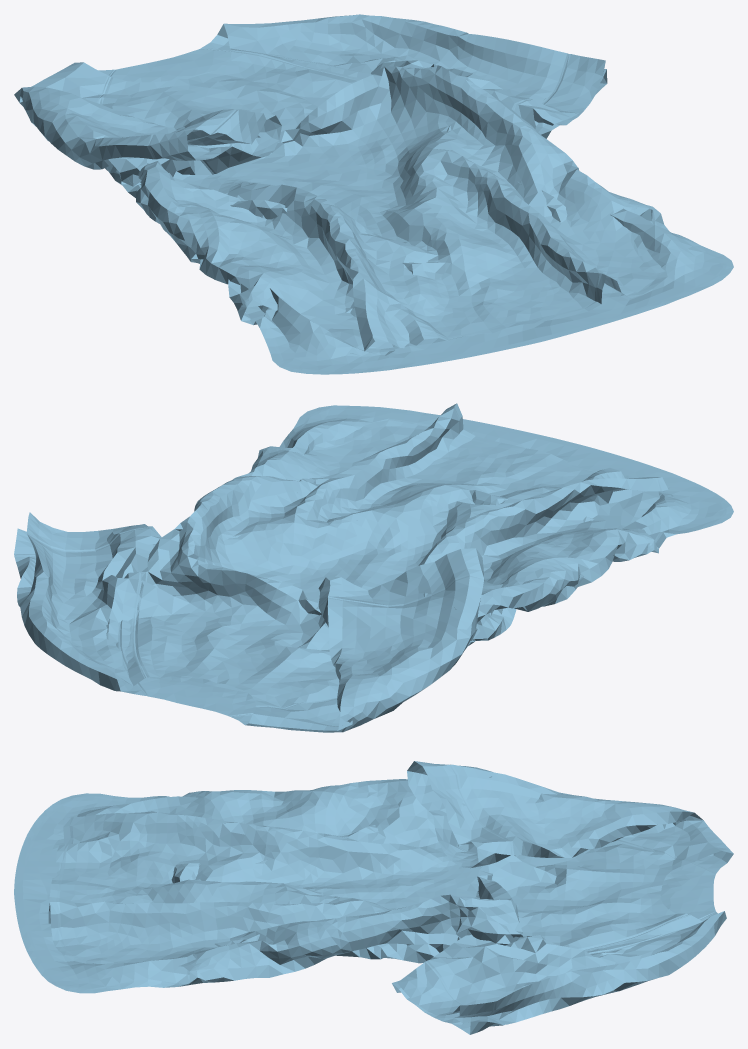
File: frame_01.glb
The picture shows the model from 3 angles, top to bottom: view 1: azimuth 30°, elevation 25°; view 2: azimuth 150°, elevation 25°; view 3: azimuth 270°, elevation 25°; orthographic projection. The views are drawn at different scales.
Visible parts, largest first — view 1: frame_01.obj; view 2: frame_01.obj; view 3: frame_01.obj.
Boxes of the visible parts, bbox=[...] form: frame_01.obj: bbox=[14, 14, 733, 374]; frame_01.obj: bbox=[14, 403, 733, 732]; frame_01.obj: bbox=[14, 761, 733, 1034].
Bounding box in the file's own units: 1.42 × 0.22 × 1.81.
